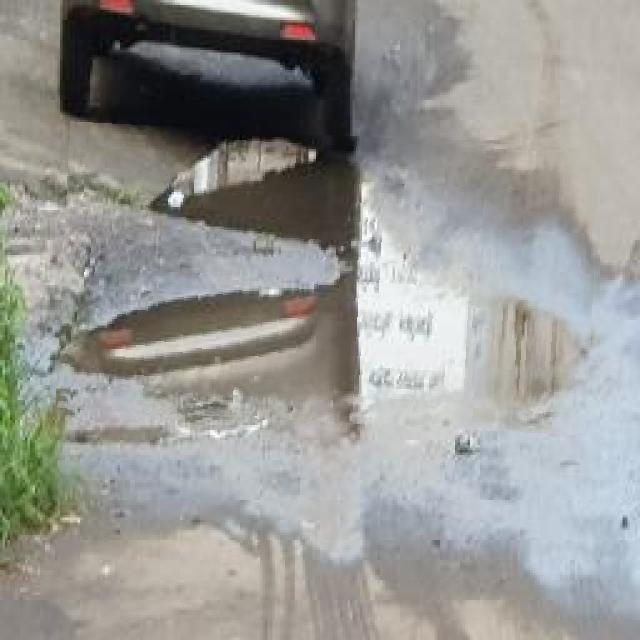puddle: (61, 129, 598, 430)
